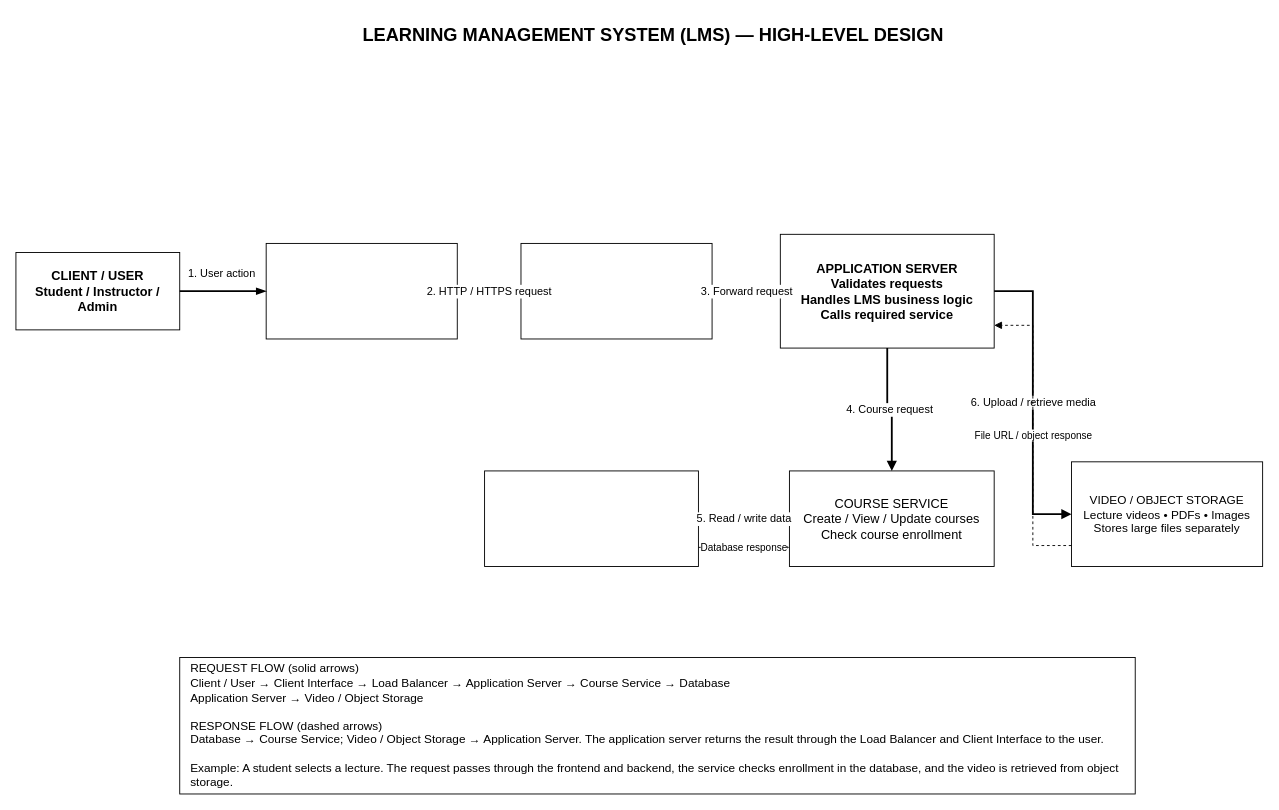
This 1279x810 diagram has some shape labels left out. The shapes that lost their labels are listed below. From the top down, each one's box as (x1, y1, x2, y2) in pixels, then its label:
(265, 243, 457, 339): CLIENT INTERFACE Web / Mobile UI Login • Dashboard • Course page
(520, 243, 712, 339): LOAD BALANCER Distributes incoming requests Routes to a healthy server
(484, 470, 698, 566): DATABASE Users • Courses • Enrollments Learning progress • File references
